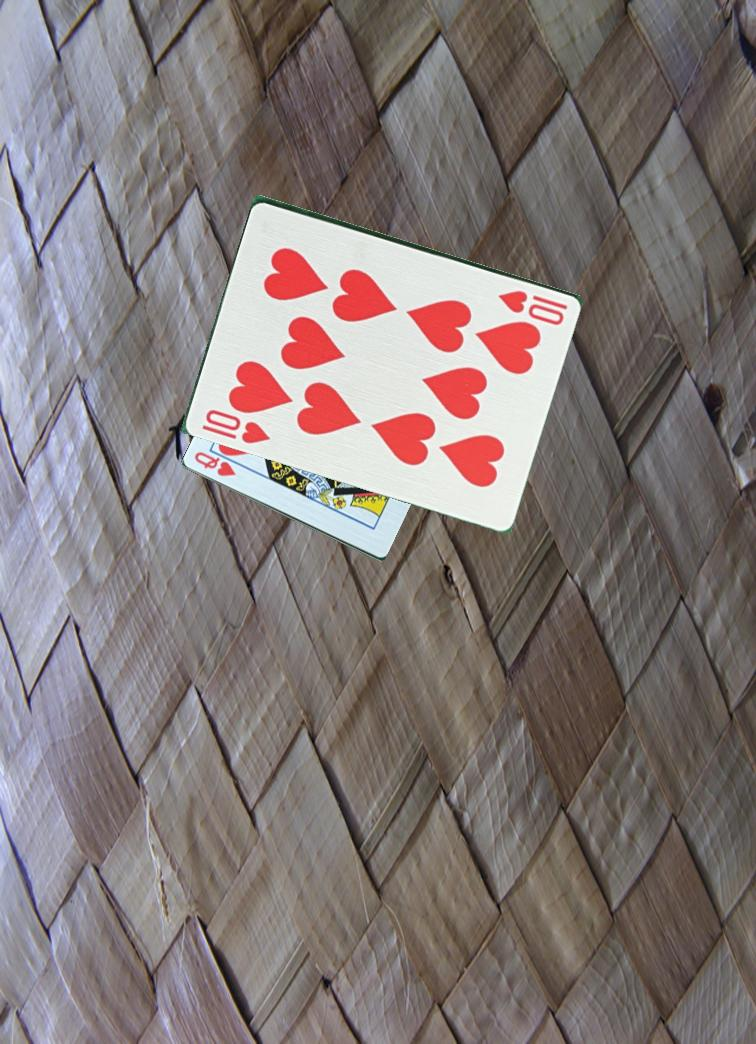qh: (190, 448, 239, 479)
th: (495, 286, 572, 328), (199, 405, 275, 447)
